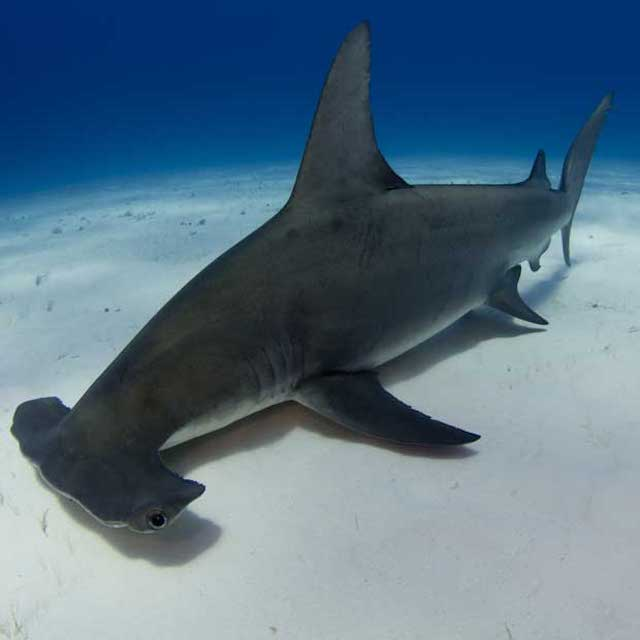hammerhead: (33, 93, 512, 557)
